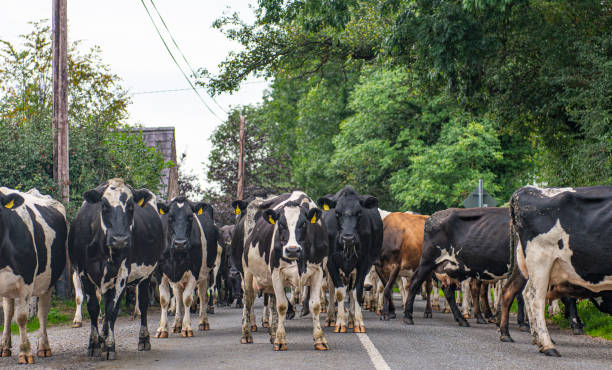inek: (62, 167, 163, 365), (511, 181, 611, 358), (237, 196, 329, 369), (0, 186, 62, 361), (432, 206, 521, 327), (324, 184, 390, 347), (150, 194, 214, 349), (387, 204, 414, 322)
